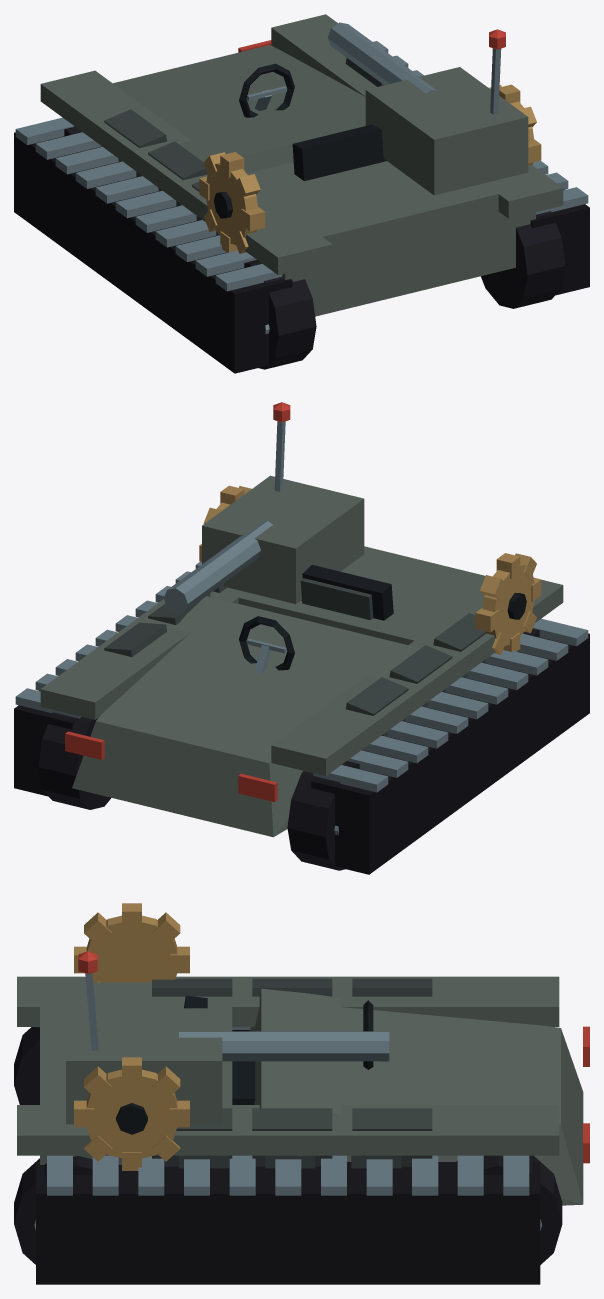
Rendered from kart.glb.
3 renders of one model, top to bottom at view 1: azimuth 30°, elevation 25°; view 2: azimuth 150°, elevation 25°; view 3: azimuth 270°, elevation 25°, orthographic. The views are drawn at different scales.
Parts seen in each view (by area): view 1: identity-tank-tank-armored-hull, identity-tank-tank-full-length-tracks, identity-tank-motif-gears, identity-tank-driver-cockpit, wheel-rear-right, wheel-rear-left, identity-tank-motif-armor, identity-tank-motif-antenna; view 2: identity-tank-tank-armored-hull, identity-tank-tank-full-length-tracks, identity-tank-motif-armor, identity-tank-motif-gears, identity-tank-driver-cockpit, wheel-front-left, wheel-front-right, identity-tank-motif-antenna; view 3: identity-tank-tank-armored-hull, identity-tank-tank-full-length-tracks, identity-tank-motif-gears, identity-tank-motif-armor, wheel-front-right, wheel-rear-right, identity-tank-driver-cockpit, wheel-rear-left, identity-tank-motif-antenna.
Part boxes in pixels (left/top/right/bottom): identity-tank-tank-armored-hull: left=40, top=14, right=563, bottom=316; identity-tank-tank-full-length-tracks: left=14, top=41, right=589, bottom=373; identity-tank-motif-gears: left=199, top=84, right=541, bottom=253; identity-tank-driver-cockpit: left=239, top=63, right=386, bottom=181; wheel-rear-right: left=481, top=211, right=565, bottom=308; wheel-rear-left: left=244, top=260, right=316, bottom=369; identity-tank-motif-armor: left=104, top=58, right=383, bottom=191; identity-tank-motif-antenna: left=489, top=29, right=505, bottom=114; identity-tank-tank-armored-hull: left=40, top=475, right=563, bottom=837; identity-tank-tank-full-length-tracks: left=14, top=561, right=589, bottom=874; identity-tank-motif-armor: left=104, top=584, right=486, bottom=715; identity-tank-motif-gears: left=199, top=485, right=541, bottom=654; identity-tank-driver-cockpit: left=239, top=565, right=393, bottom=673; wheel-front-left: left=287, top=761, right=359, bottom=870; wheel-front-right: left=38, top=712, right=111, bottom=809; identity-tank-motif-antenna: left=273, top=402, right=290, bottom=491; identity-tank-tank-armored-hull: left=17, top=976, right=589, bottom=1205; identity-tank-tank-full-length-tracks: left=36, top=1027, right=540, bottom=1284; identity-tank-motif-gears: left=74, top=903, right=189, bottom=1170; identity-tank-motif-armor: left=152, top=978, right=432, bottom=1166; wheel-front-right: left=456, top=1155, right=562, bottom=1264; wheel-rear-right: left=14, top=1156, right=92, bottom=1264; identity-tank-driver-cockpit: left=184, top=995, right=388, bottom=1104; wheel-rear-left: left=14, top=1027, right=39, bottom=1104; identity-tank-motif-antenna: left=78, top=951, right=98, bottom=1050.
Size of the model in its own units: 2.38 by 1.72 by 2.88.
